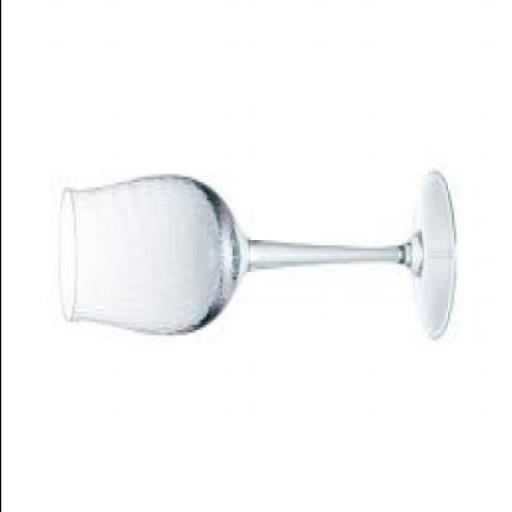glass: (56, 177, 450, 340)
